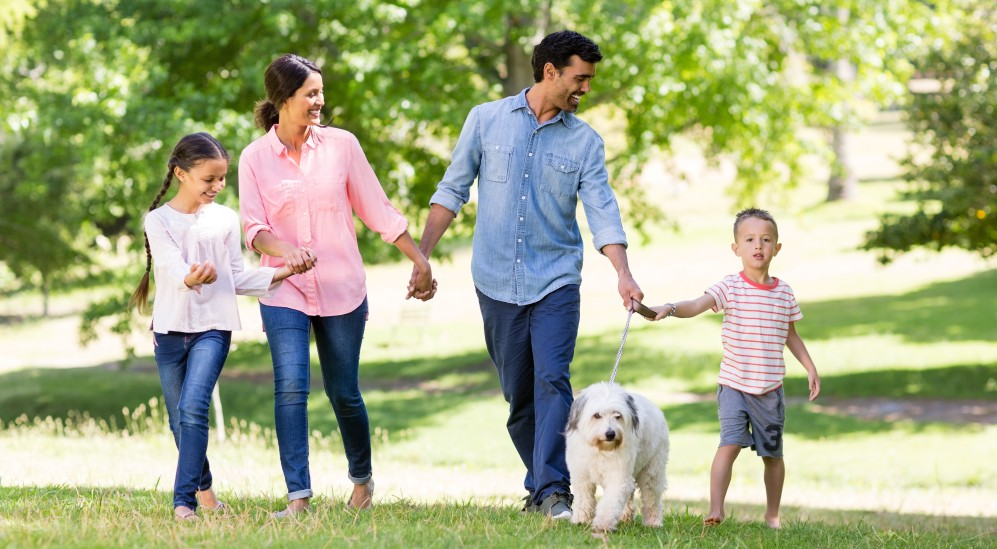Person: (402, 23, 681, 523), (227, 45, 451, 536), (621, 183, 870, 534), (132, 132, 325, 529)
